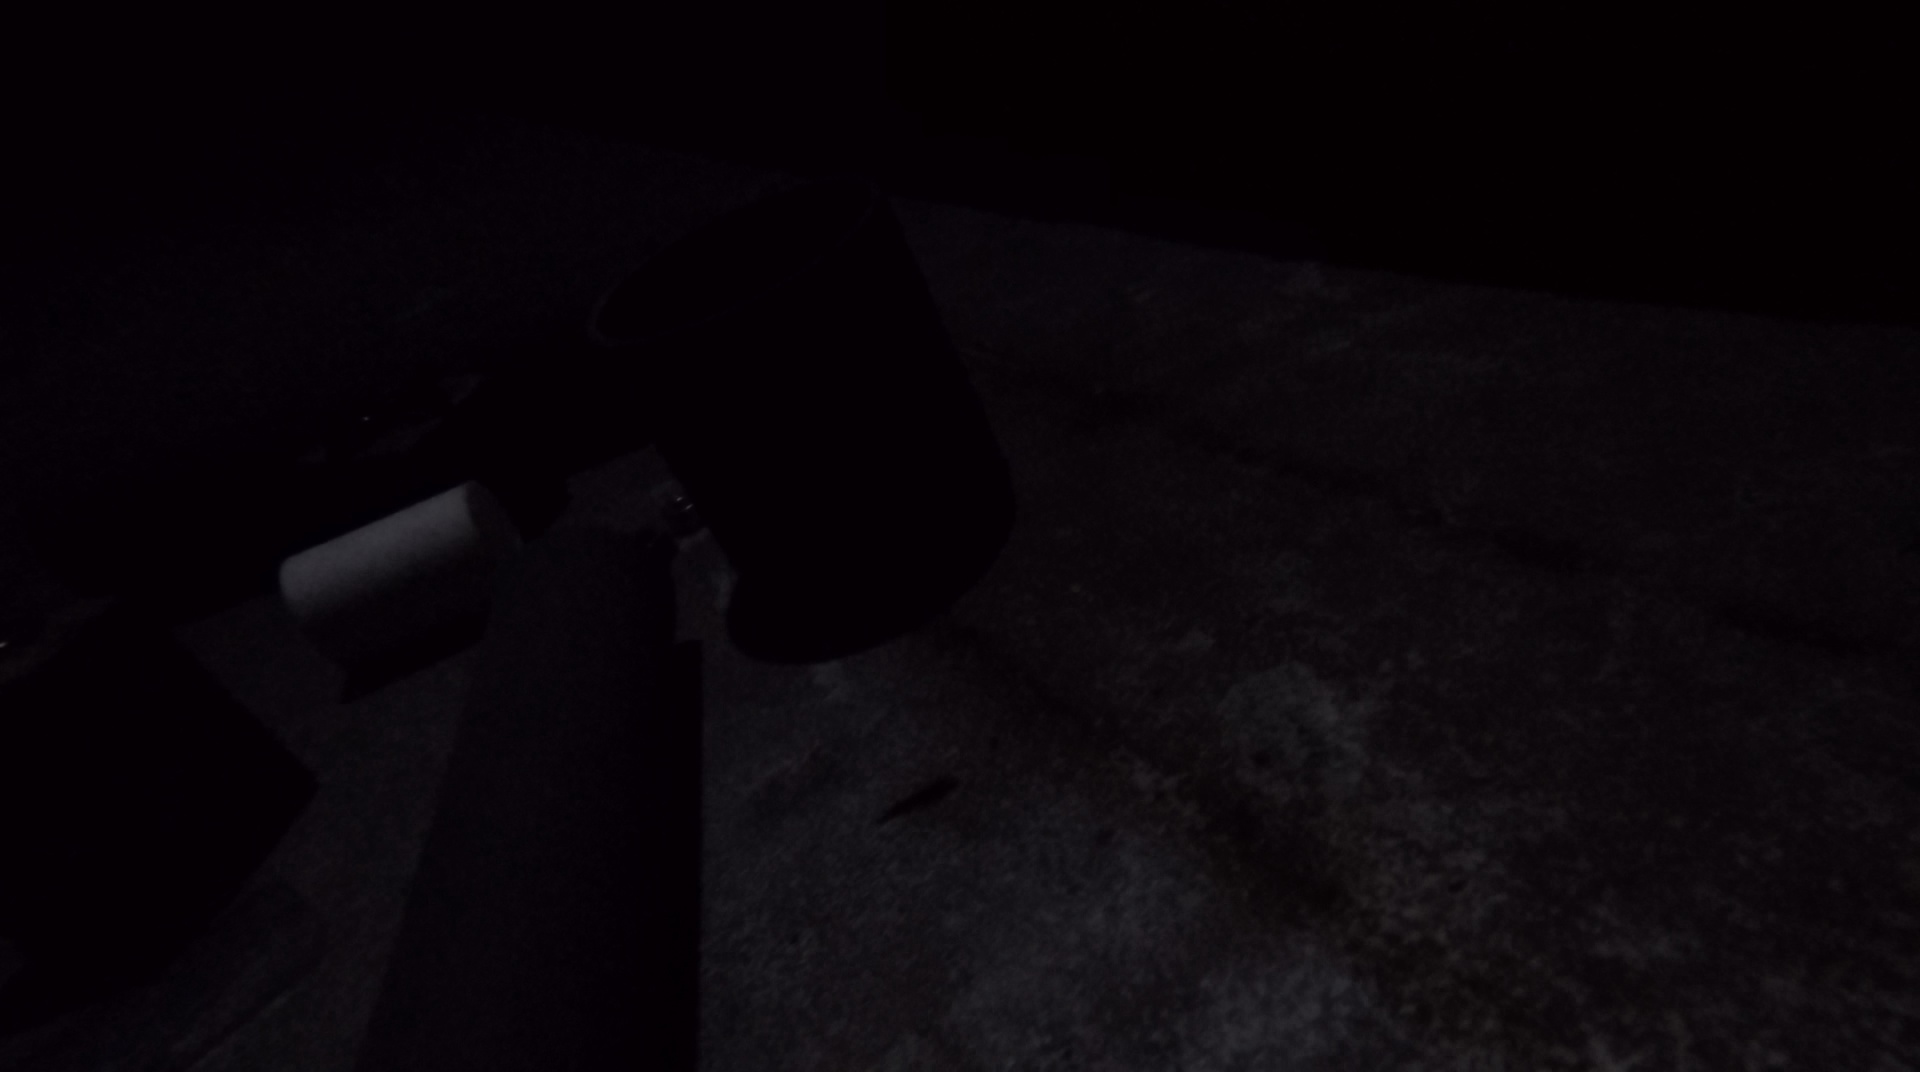led_block: (293, 339, 574, 535)
nut: (663, 492, 705, 529), (632, 526, 676, 551)
pipe: (584, 189, 1015, 633), (353, 533, 671, 1072), (1, 597, 322, 1046), (281, 479, 524, 678)
